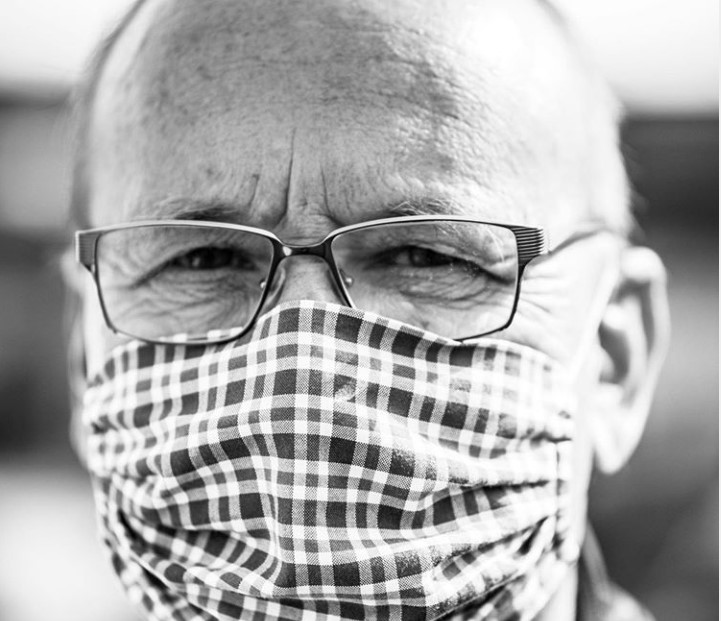face_with_mask: (76, 8, 612, 607)
